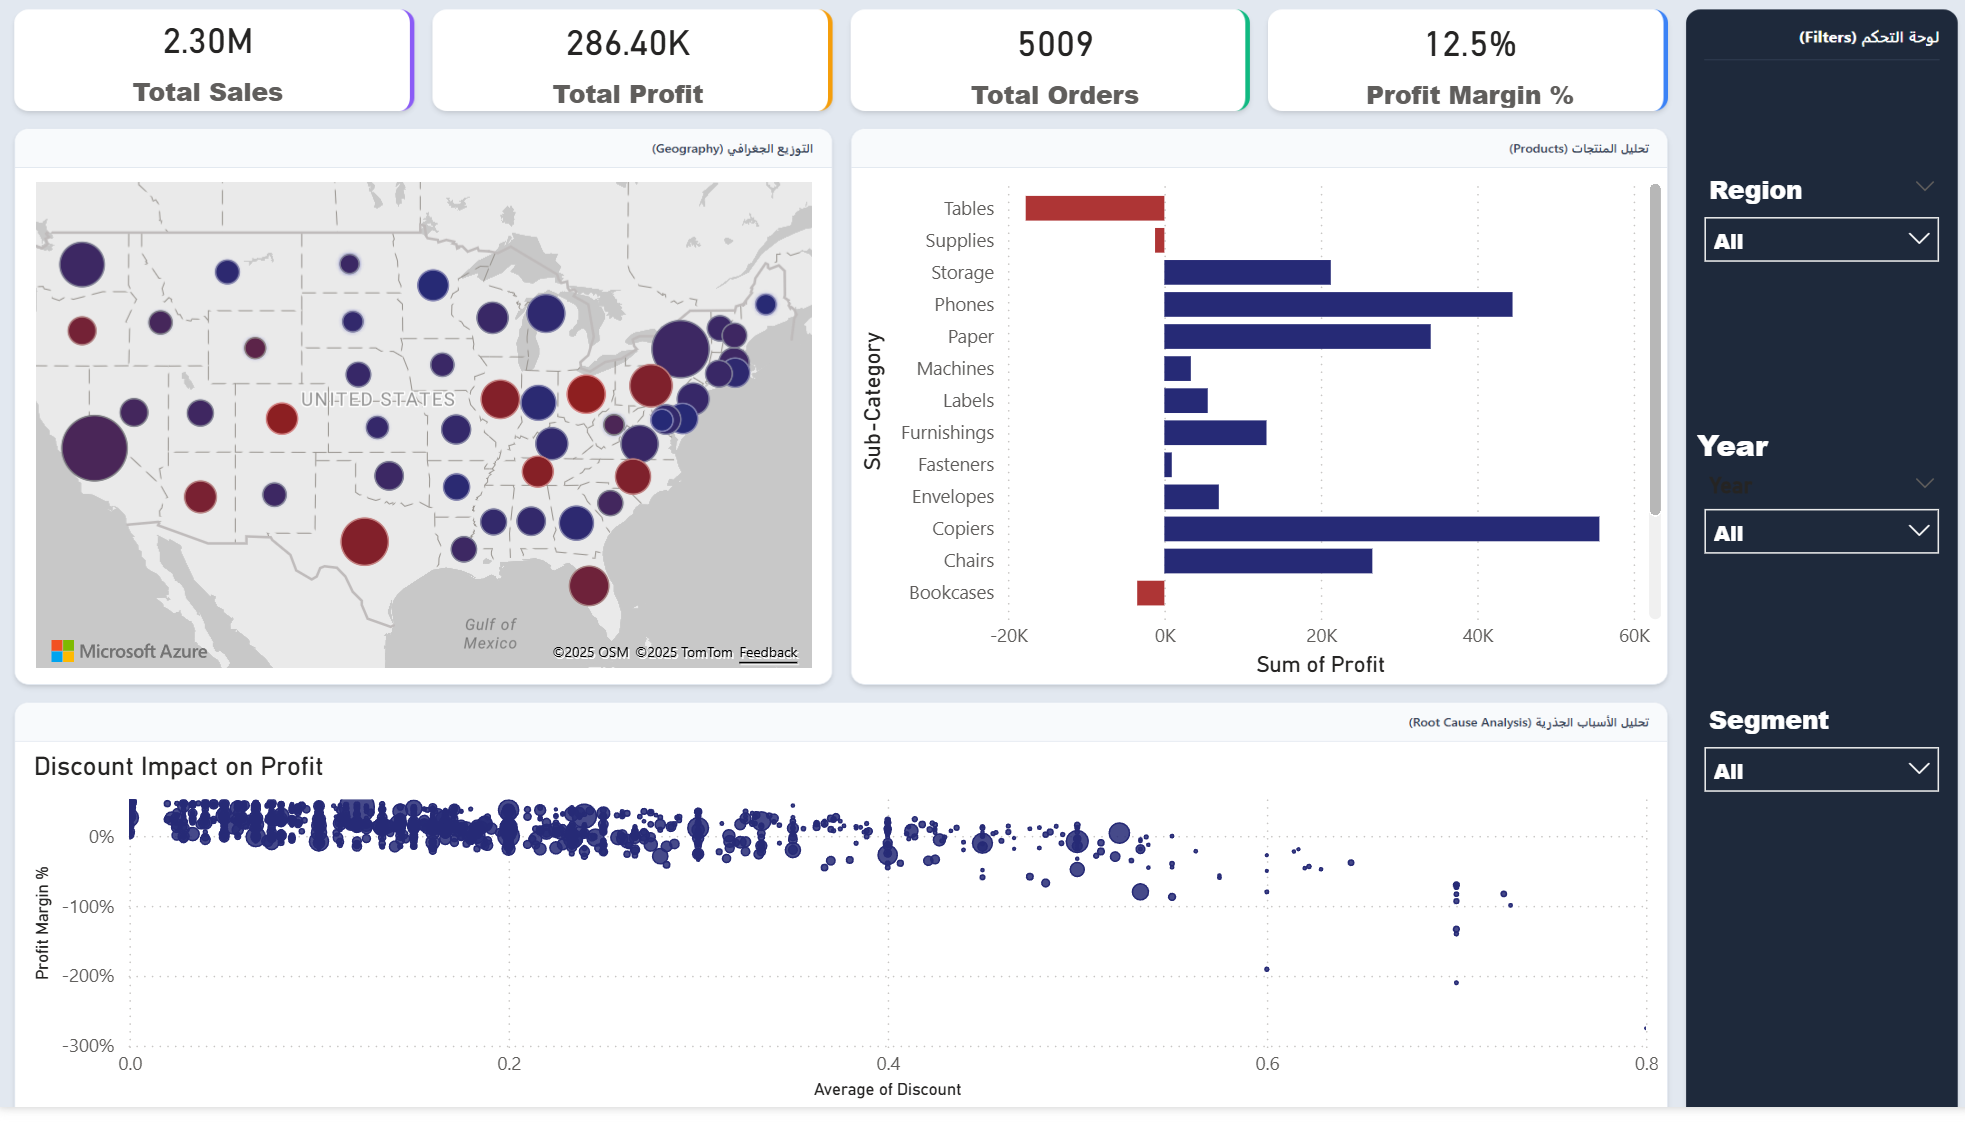

Layout of this report page (visuals, bound fields, positions):
{"tool":"powerbi","page":{"name":"Page 2","canvas":[1280,720],"ordinal":0},"visuals":[{"type":"card","fields":{"Values":["Sample - Superstore.Total Orders"]},"box":[593,7.2,184,70.6],"z":0},{"type":"card","fields":{"Values":["Sample - Superstore.Total Profit"]},"box":[276,6.5,264.3,70.6],"z":1000},{"type":"card","fields":{"Values":["Sample - Superstore.Profit Margin %"]},"box":[852.3,7.2,202.1,70.6],"z":2000},{"type":"card","fields":{"Values":["Sample - Superstore.Total Sales"]},"box":[19.3,2.4,232.8,75.4],"z":3000},{"type":"barChart","fields":{"Category":["Sample - Superstore.Sub-Category"],"Y":["Sum(Sample - Superstore.Profit)"]},"box":[553.3,108.8,529.3,337.5],"z":4000},{"type":"scatterChart","title":"Discount Impact on Profit","fields":{"X":["Sample - Superstore.Discount"],"Category":["Sample - Superstore.Product Name"],"Size":["Sum(Sample - Superstore.Sales)"],"Y":["Sample - Superstore.Profit Margin %"]},"box":[18.4,488.8,1062.4,230.5],"z":5000},{"type":"azureMap","fields":{"Category":["Sample - Superstore.State"],"Size":["Sample - Superstore.Total Sales"]},"box":[19.3,115.8,513.3,325.1],"z":6000},{"type":"image","box":[1136.4,0,130.9,124.9],"z":7000},{"type":"slicer","fields":{"Values":["Sample - Superstore.Region"]},"box":[1095.4,108.8,171.7,101.7],"z":8000},{"type":"slicer","title":"Year","fields":{"Values":["Sample - Superstore.Order Date.Variation.Date Hierarchy.Year"]},"box":[1095.4,277.9,171.7,105.6],"z":9000},{"type":"slicer","fields":{"Values":["Sample - Superstore.Segment"]},"box":[1095.4,452.1,171.7,268.2],"z":10000}]}

Visuals, with their boxes on the page's 1280x720 design canvas (x1, y1, x2, y2). These are canvas units, not pixel positions in the 1965x1142 screenshot, which may show the page scaled, cropped or inside an application window:
card - Sample - Superstore.Total Orders: bbox(593, 7, 777, 78)
card - Sample - Superstore.Total Profit: bbox(276, 6, 540, 77)
card - Sample - Superstore.Profit Margin %: bbox(852, 7, 1054, 78)
card - Sample - Superstore.Total Sales: bbox(19, 2, 252, 78)
barChart - Sample - Superstore.Sub-Category x Sum(Sample - Superstore.Profit): bbox(553, 109, 1083, 446)
"Discount Impact on Profit" scatterChart: bbox(18, 489, 1081, 719)
azureMap - Sample - Superstore.State x Sample - Superstore.Total Sales: bbox(19, 116, 533, 441)
image: bbox(1136, 0, 1267, 125)
slicer - Sample - Superstore.Region: bbox(1095, 109, 1267, 210)
"Year" slicer: bbox(1095, 278, 1267, 384)
slicer - Sample - Superstore.Segment: bbox(1095, 452, 1267, 720)
